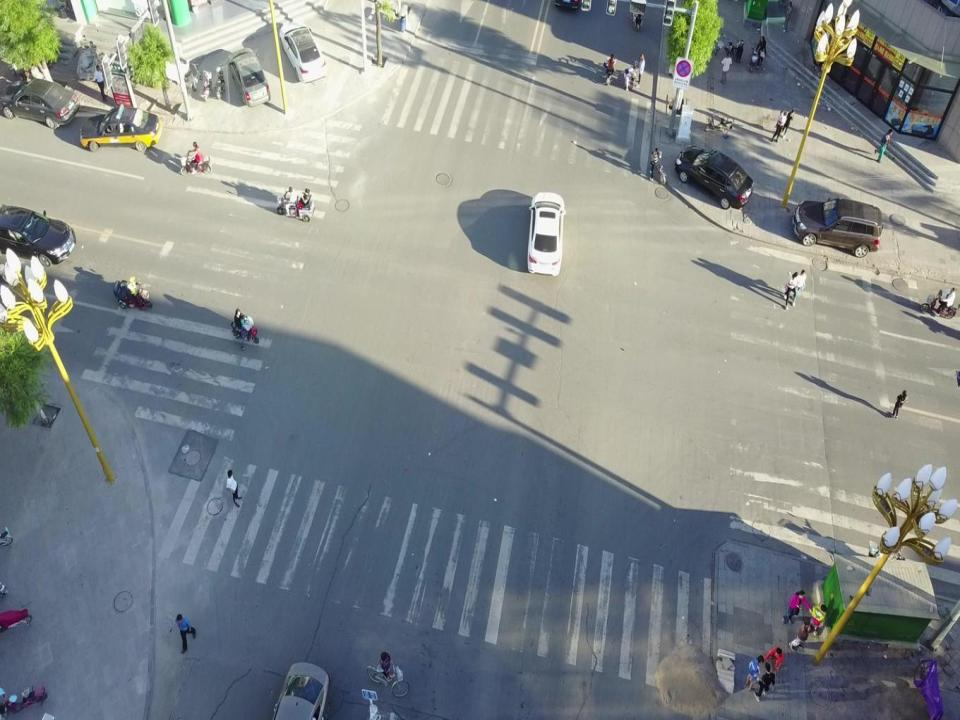car: (674, 146, 754, 210), (0, 204, 76, 266), (0, 78, 79, 129), (263, 662, 331, 720), (80, 105, 162, 152), (527, 192, 566, 277), (279, 22, 326, 82), (229, 48, 270, 107)
van: (792, 198, 883, 258)
